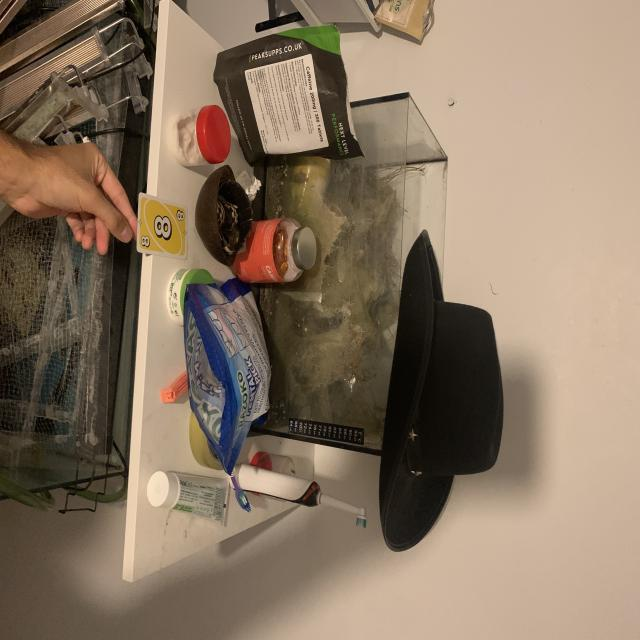lyellow-8: (175, 207, 188, 223)
